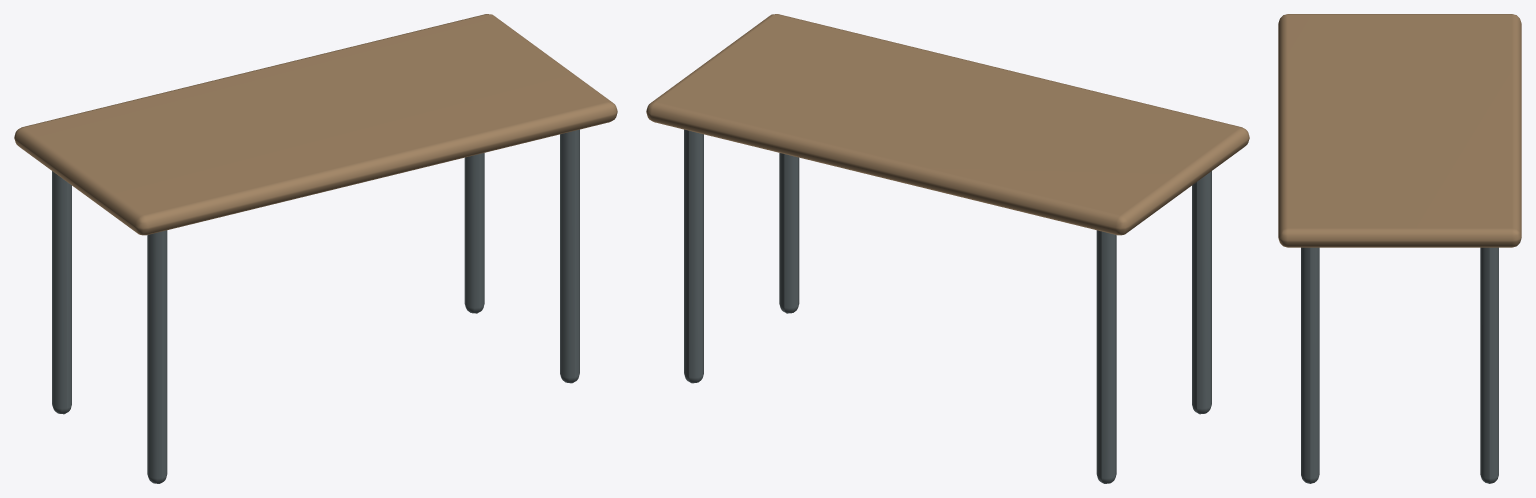
File: LibraryDesk.fbx
The picture shows the model from 3 angles, left to right: view 1: azimuth 30°, elevation 25°; view 2: azimuth 150°, elevation 25°; view 3: azimuth 270°, elevation 25°; orthographic projection. The views are drawn at different scales.
Visible parts, largest first — view 1: Desk top, Desk leg, Desk leg.002, Desk leg.001, Desk leg.003; view 2: Desk top, Desk leg.001, Desk leg.003, Desk leg, Desk leg.002; view 3: Desk top, Desk leg.002, Desk leg.003.
Part boxes in pixels (left/top/right/bottom): Desk top: left=14, top=14, right=617, bottom=235; Desk leg: left=147, top=230, right=167, bottom=483; Desk leg.002: left=560, top=129, right=579, bottom=383; Desk leg.001: left=52, top=171, right=71, bottom=414; Desk leg.003: left=464, top=153, right=484, bottom=313; Desk top: left=646, top=14, right=1249, bottom=235; Desk leg.001: left=1096, top=230, right=1116, bottom=483; Desk leg.003: left=684, top=129, right=703, bottom=383; Desk leg: left=1192, top=171, right=1211, bottom=414; Desk leg.002: left=779, top=153, right=799, bottom=313; Desk top: left=1278, top=14, right=1521, bottom=247; Desk leg.002: left=1301, top=247, right=1319, bottom=483; Desk leg.003: left=1480, top=247, right=1498, bottom=483.
Bounding box in the file's own units: 140 × 78.75 × 65.
